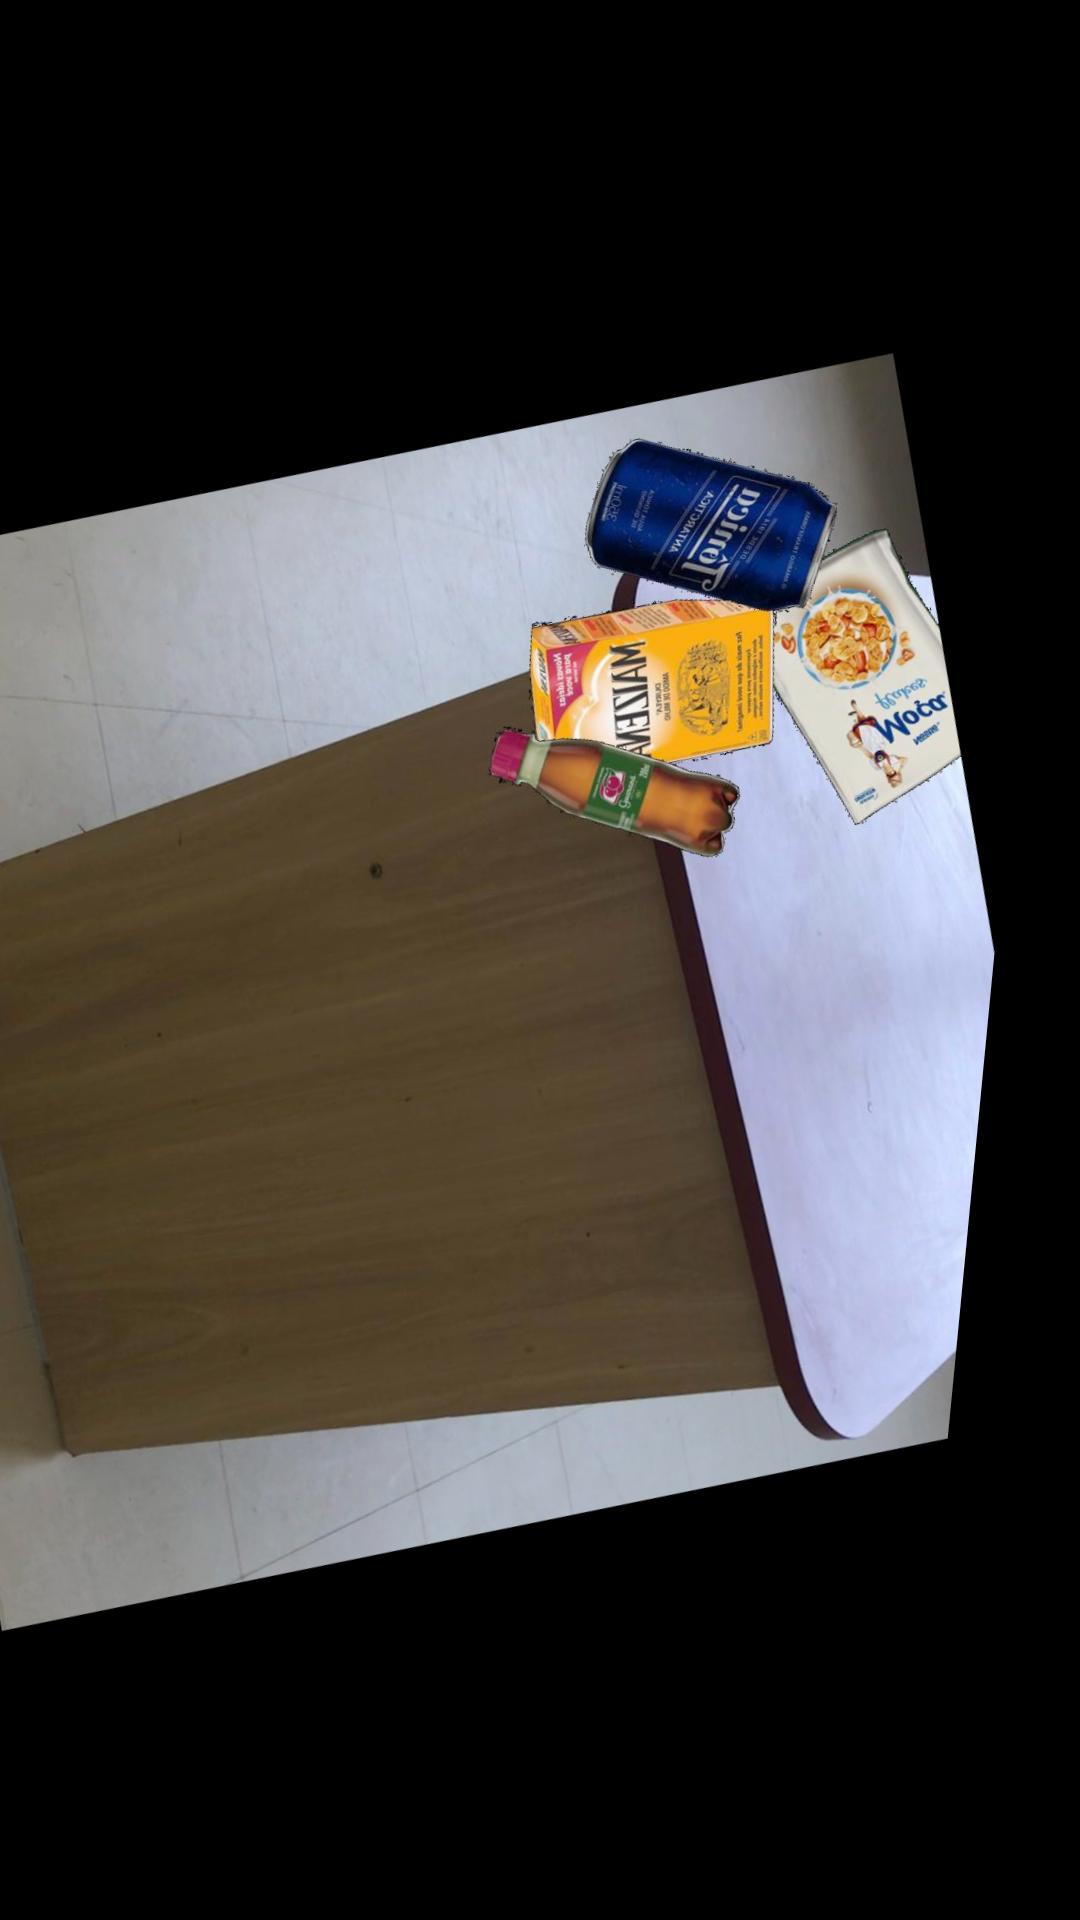corn flakes: (786, 516, 976, 811)
guarana: (504, 717, 756, 845)
tonic: (596, 429, 847, 599)
